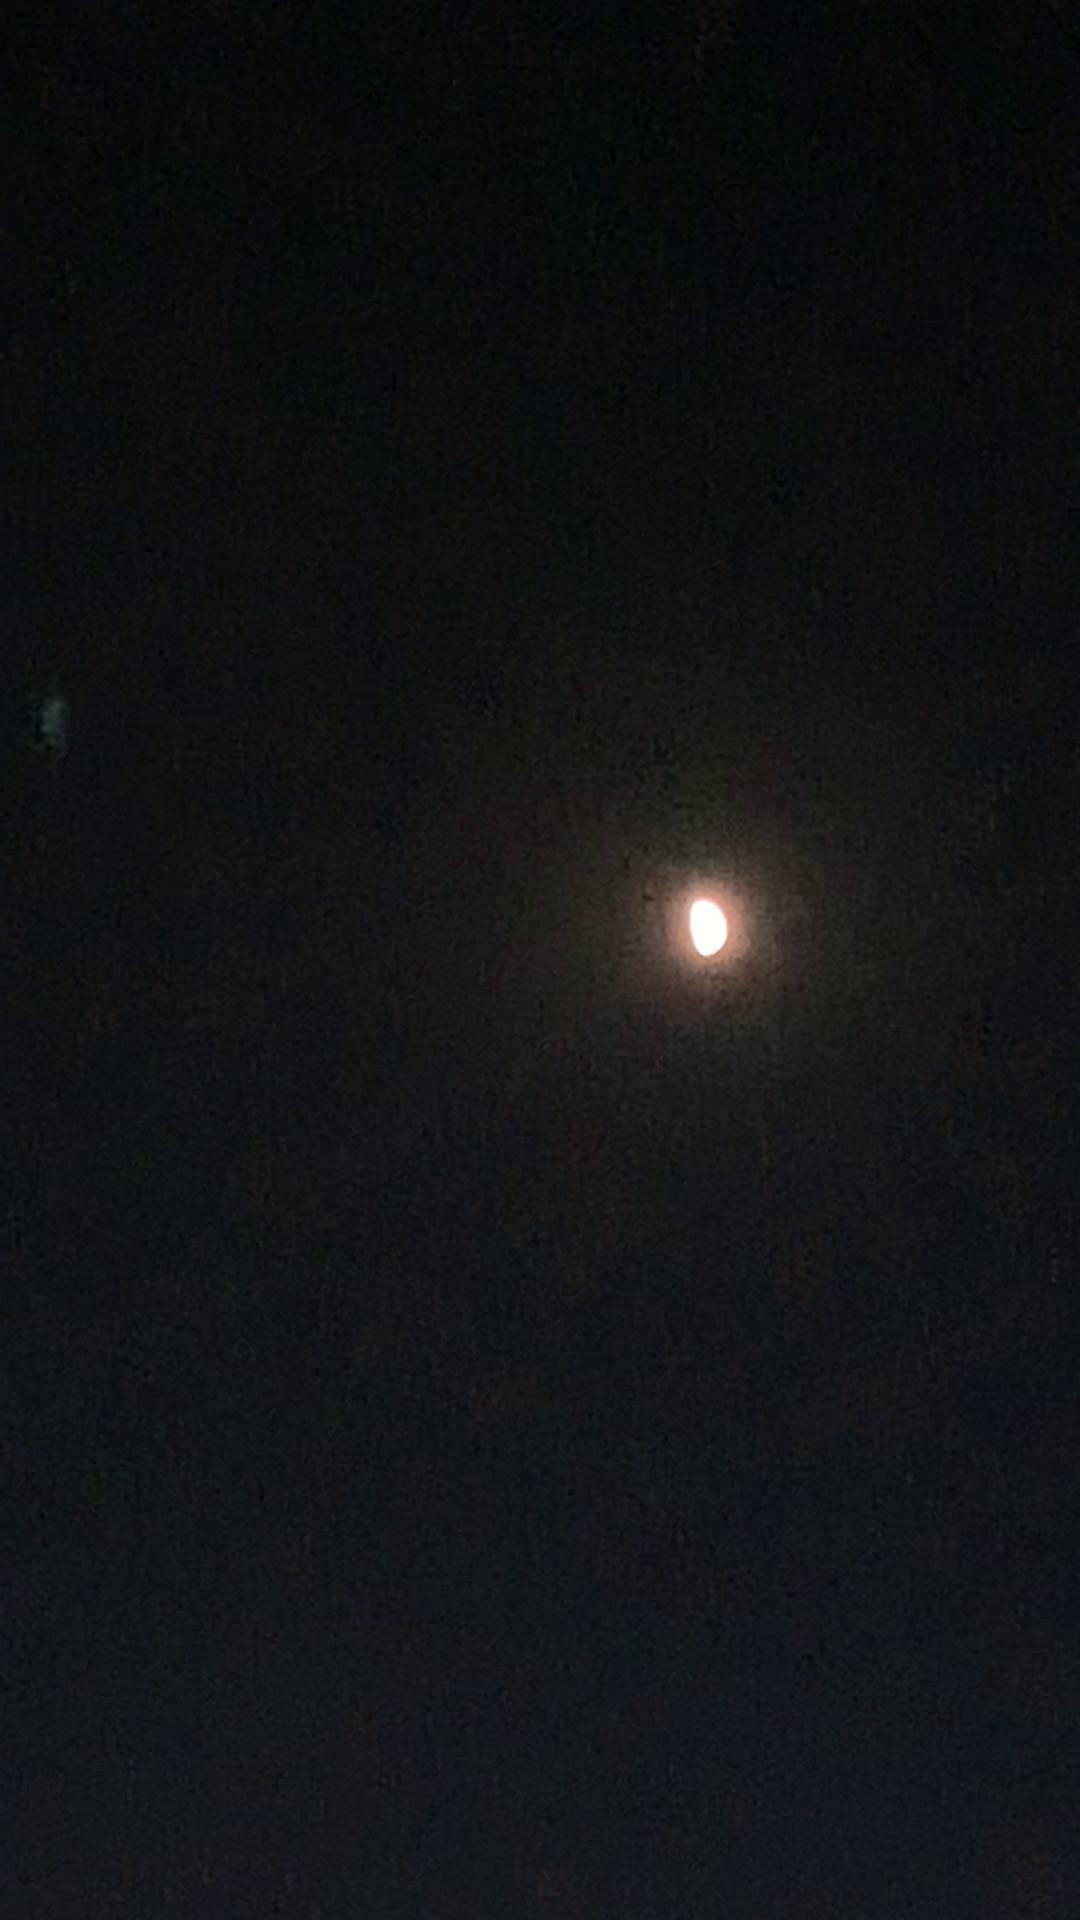moon: (662, 897, 752, 978)
